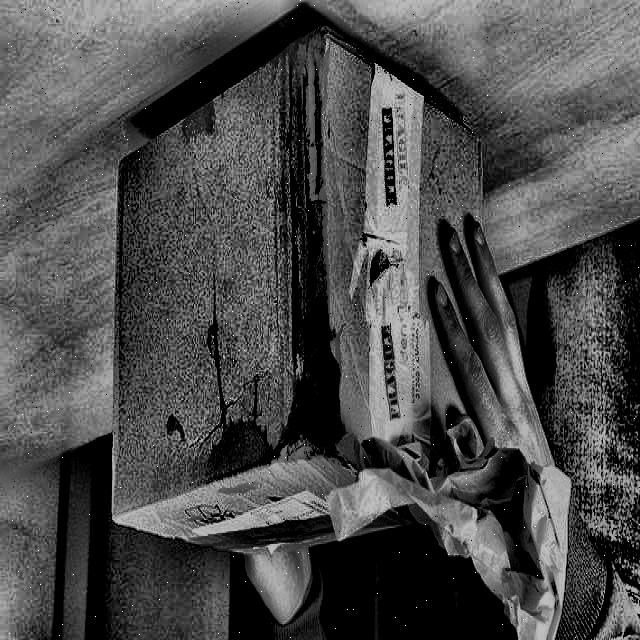box: (105, 18, 586, 640)
hole: (281, 340, 353, 460)
